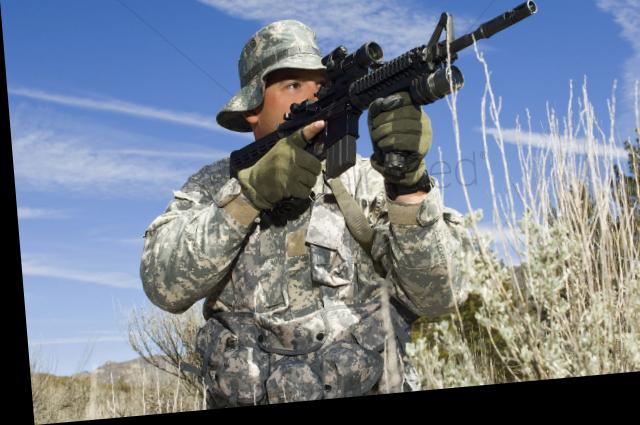other: (140, 27, 455, 405)
